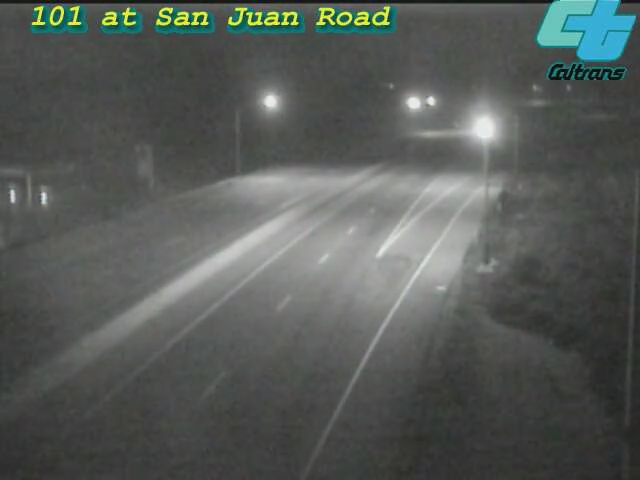vehicle: (455, 106, 505, 156)
